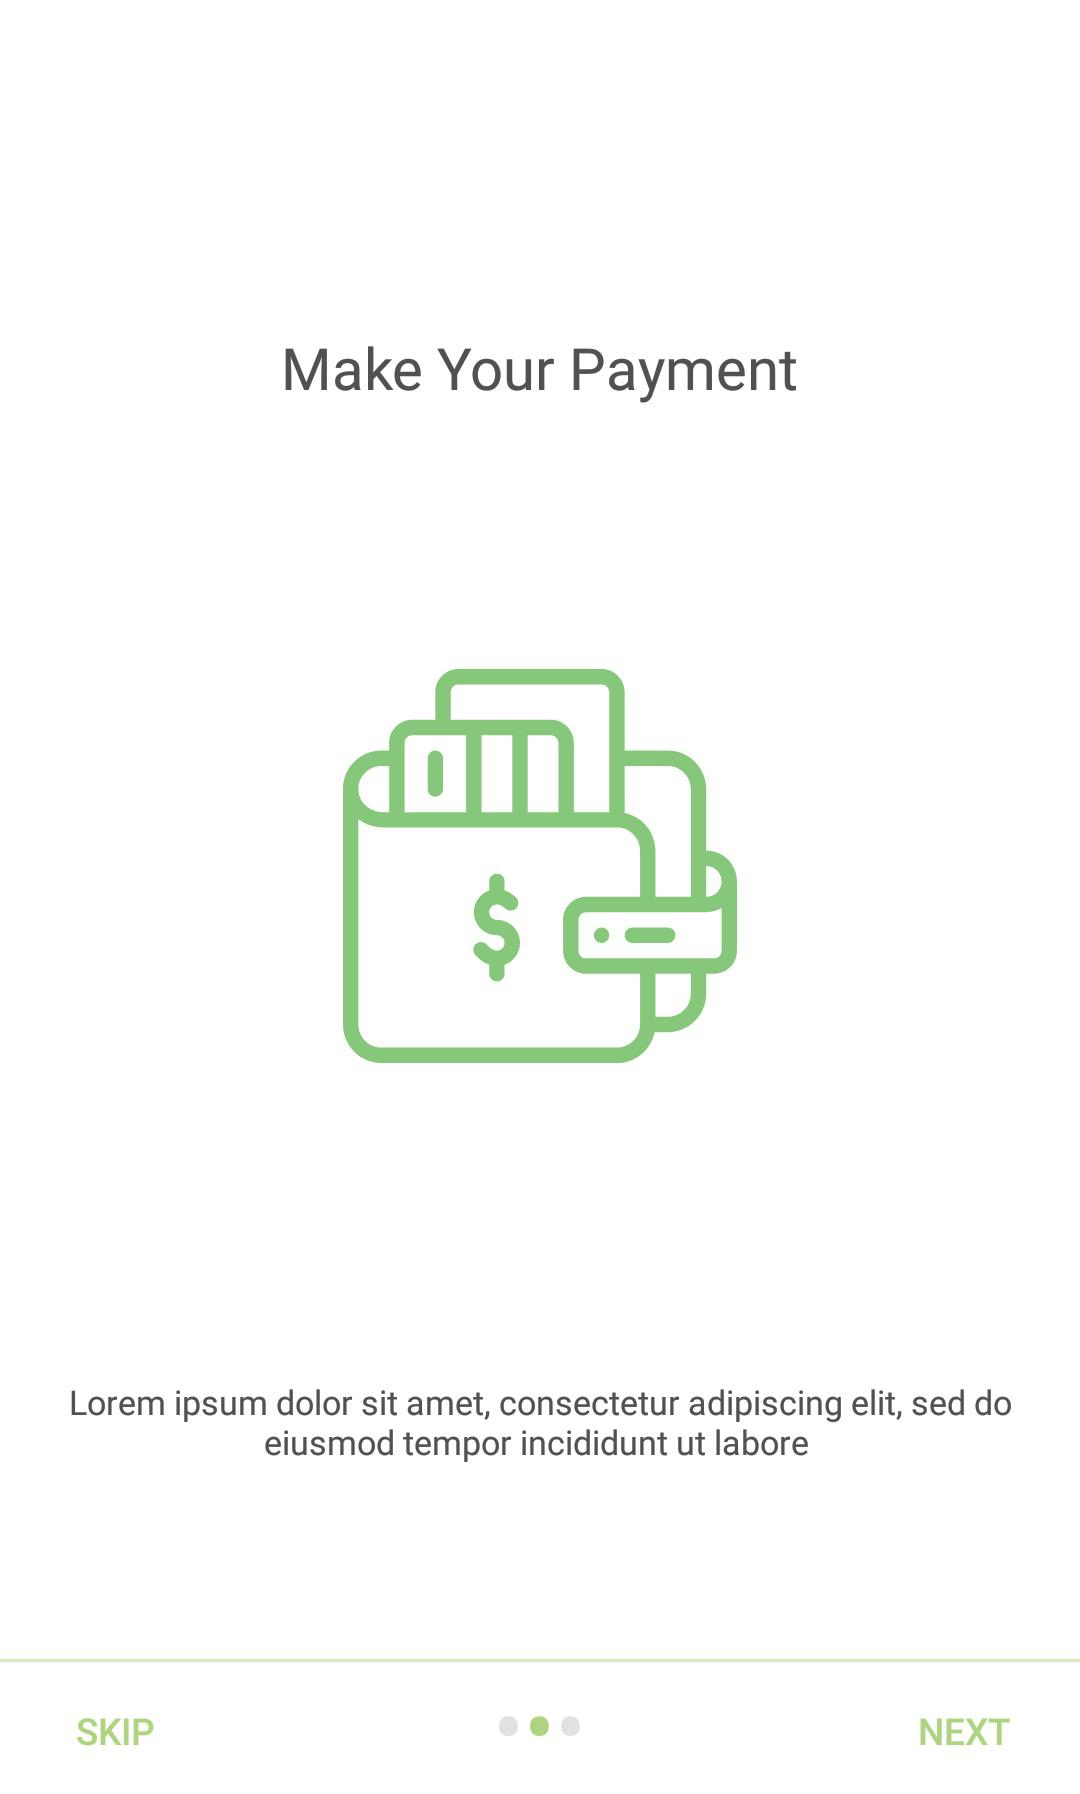Image: (343, 669, 738, 1064)
PageIndicator: (498, 1715, 582, 1738)
Text: (70, 1388, 1012, 1463), (284, 346, 797, 404), (919, 1717, 1011, 1747), (77, 1717, 155, 1747)
